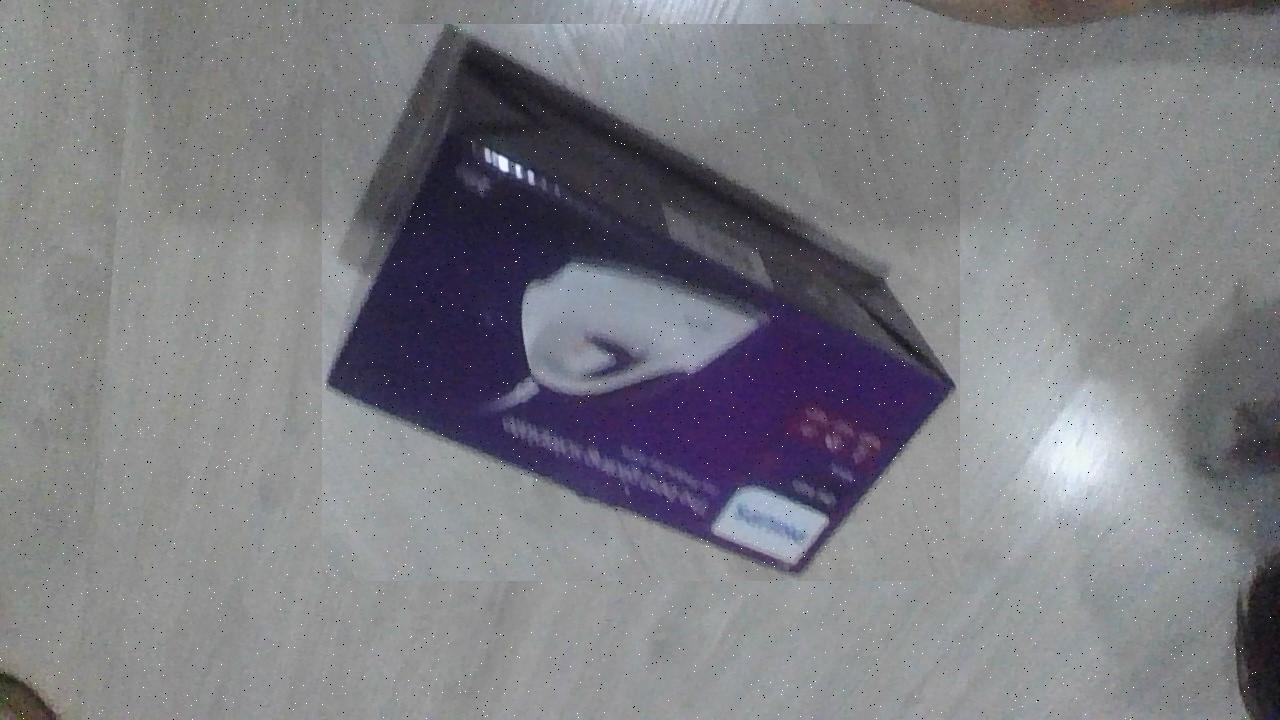IRON: (322, 24, 960, 581)
